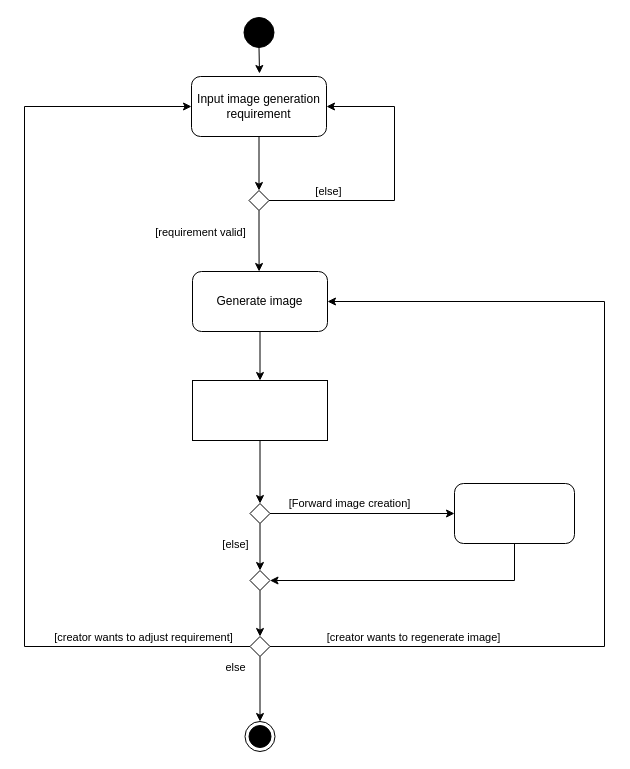
This 630x769 diagram has some shape labels left out. The shapes that lost their labels are listed below. From the top down, each one's box as (x1, y1, x2, y2) in pixels, then its label:
(192, 380, 328, 440): Image product
(454, 482, 574, 544): Image forward
